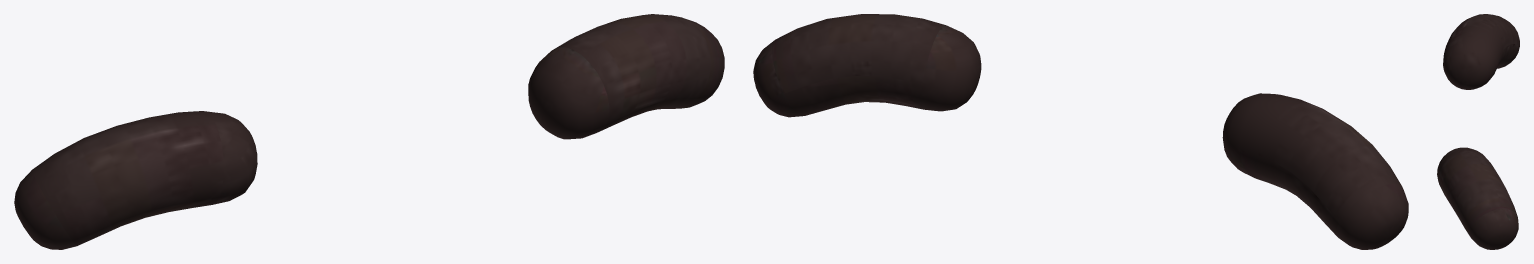
The model's file is eyebrows1.glb.
3 views of the same model, side by side, from view 1: azimuth 30°, elevation 25°; view 2: azimuth 150°, elevation 25°; view 3: azimuth 270°, elevation 25° (orthographic). The views are drawn at different scales.
Visible parts, largest first — view 1: eyebrows.001; view 2: eyebrows.001; view 3: eyebrows.001.
Boxes of the visible parts, x1,y1,x2,y2 form: eyebrows.001: (14,14,724,249); eyebrows.001: (753,14,1408,249); eyebrows.001: (1437,14,1519,249).
Size of the model in its own units: 0.7909 by 0.1367 by 0.1402.
Materials: 1 (1 with a texture image).
